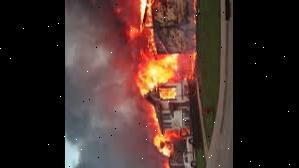fire: (142, 47, 198, 115), (133, 0, 159, 43), (152, 125, 185, 152)
